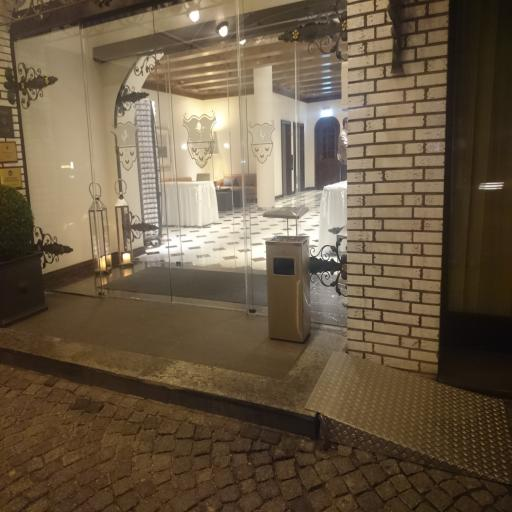ramp: (321, 350, 512, 488)
